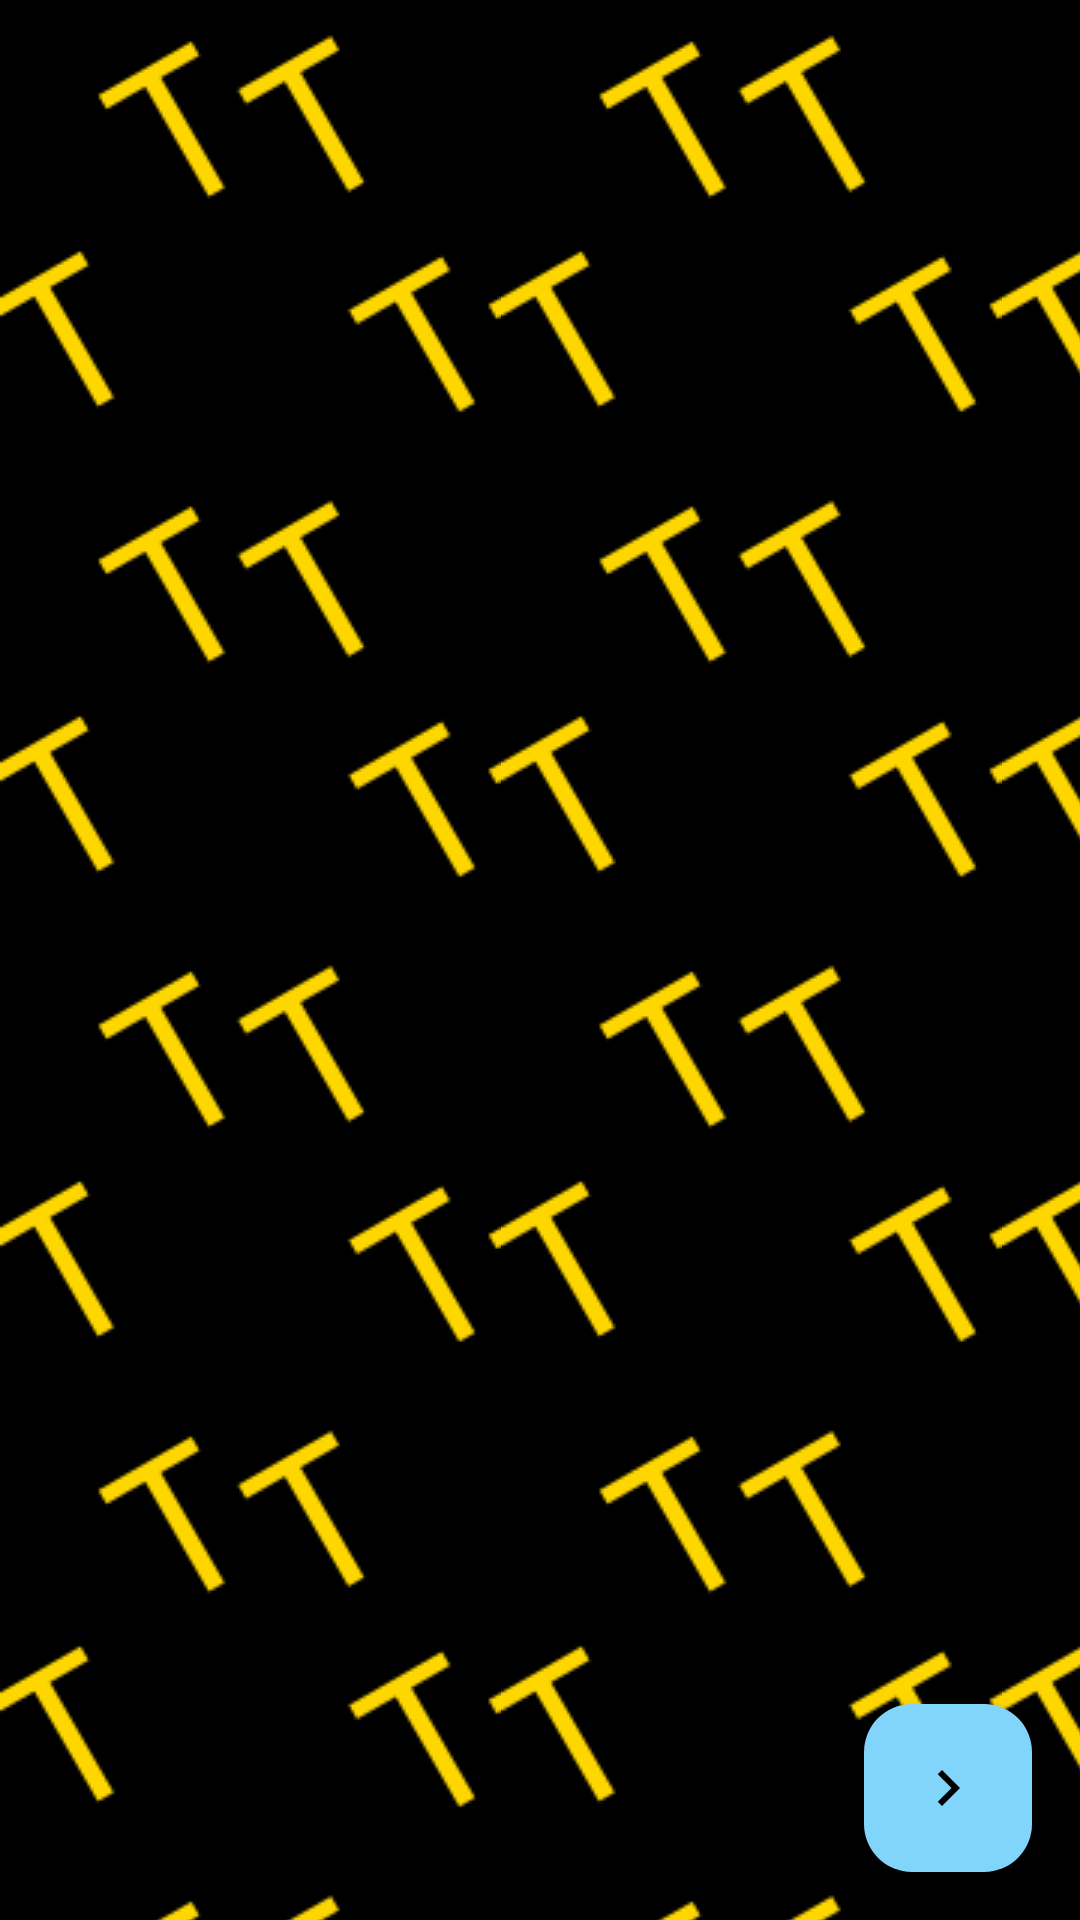

Icon click points for this 1080 × 1920 phone screenshot, format point (x, y):
Next page: point (948, 1788)
